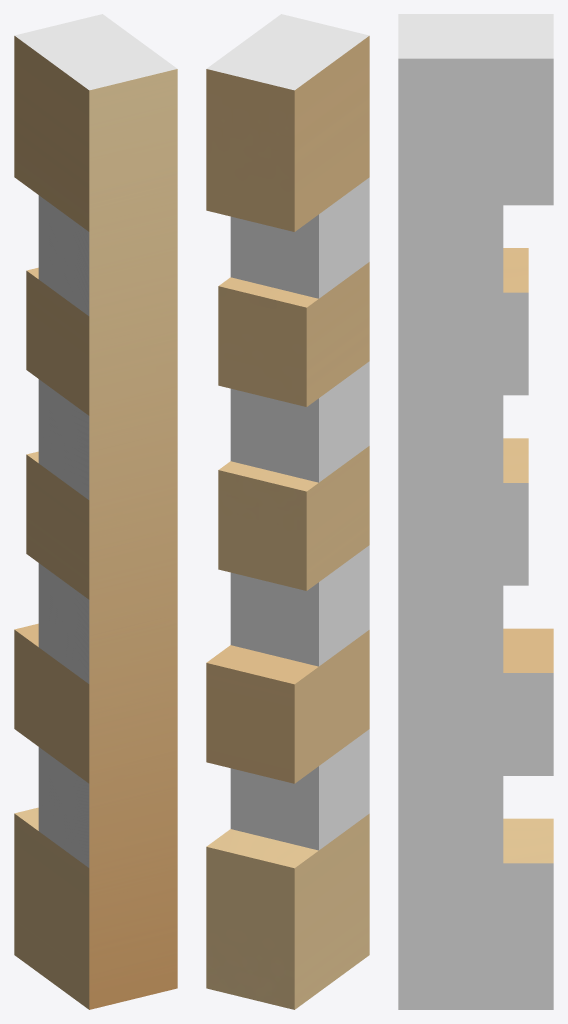
File: base_outer_corner_1.fbx
3 renders of one model, left to right at view 1: azimuth 30°, elevation 25°; view 2: azimuth 150°, elevation 25°; view 3: azimuth 270°, elevation 25°, orthographic. The views are drawn at different scales.
Parts seen in each view (by area): view 1: base.outer.wall.corner1; view 2: base.outer.wall.corner1; view 3: base.outer.wall.corner1.
Part boxes in pixels (x1,y1,x2,y2): base.outer.wall.corner1: (14,14,177,1009); base.outer.wall.corner1: (206,14,369,1009); base.outer.wall.corner1: (398,14,553,1009).
Bounding box in the file's own units: 30.16 × 300 × 44.35.
